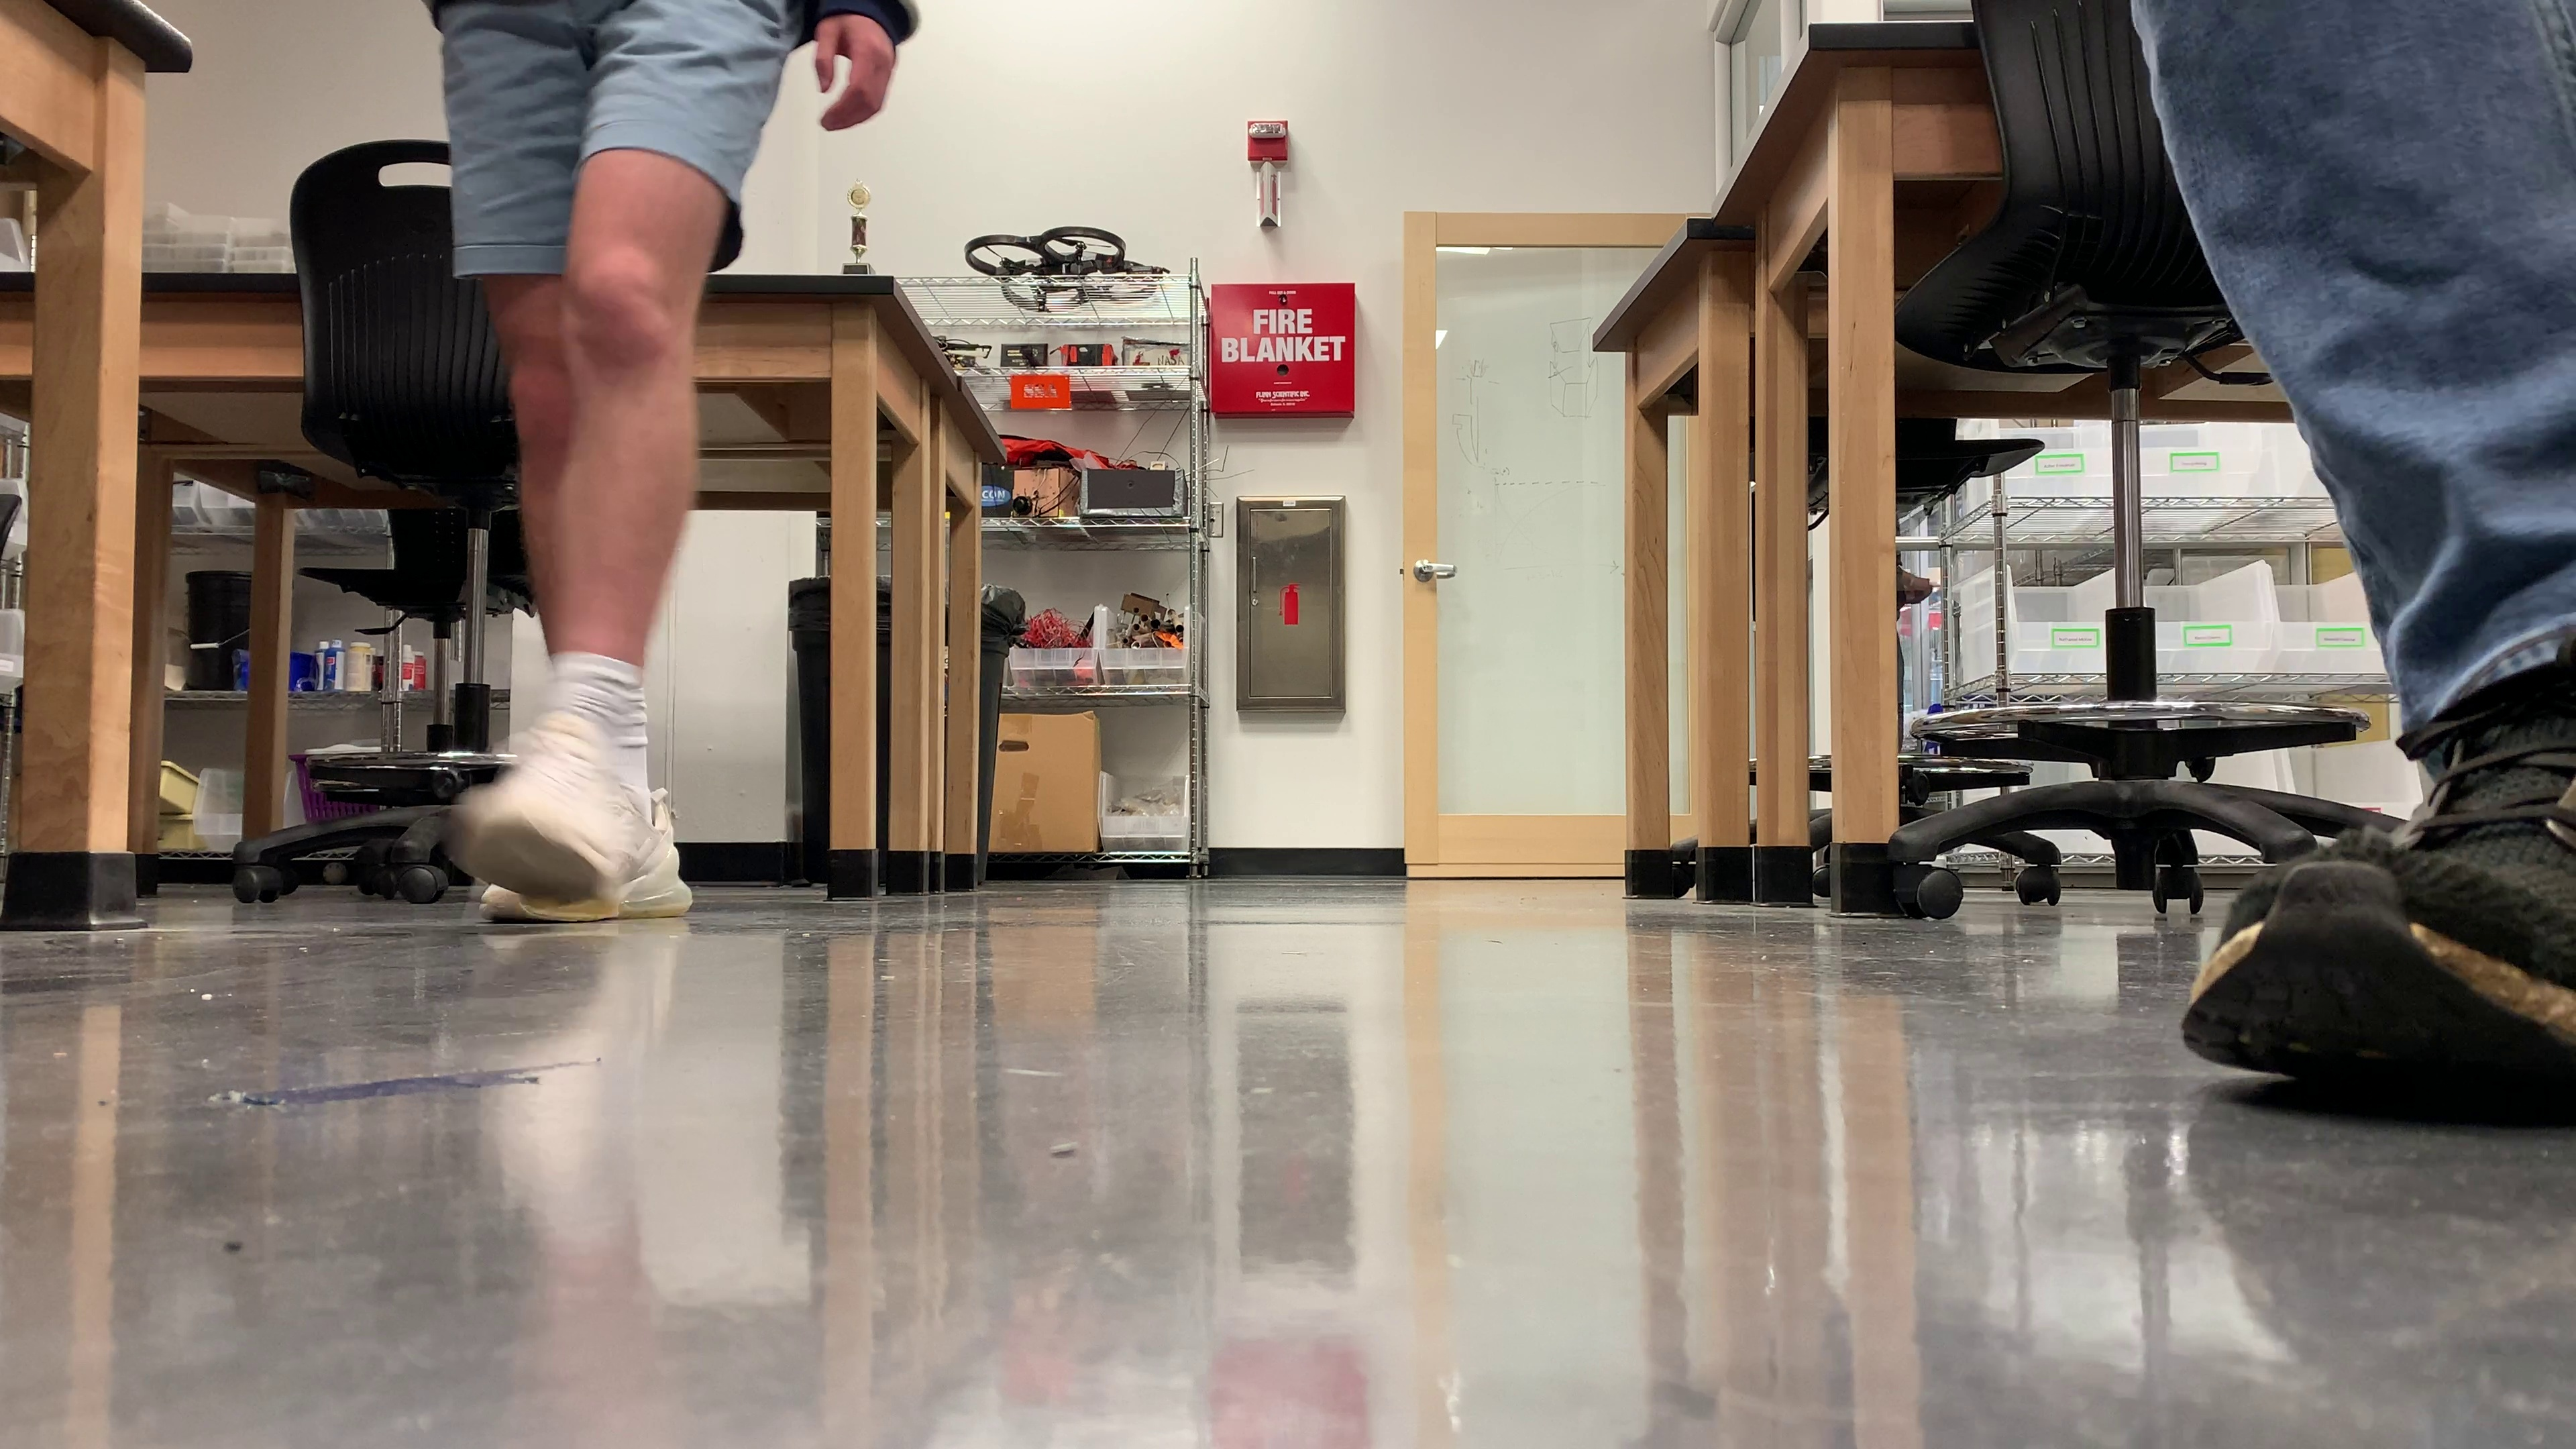shoe: (488, 791, 694, 924)
